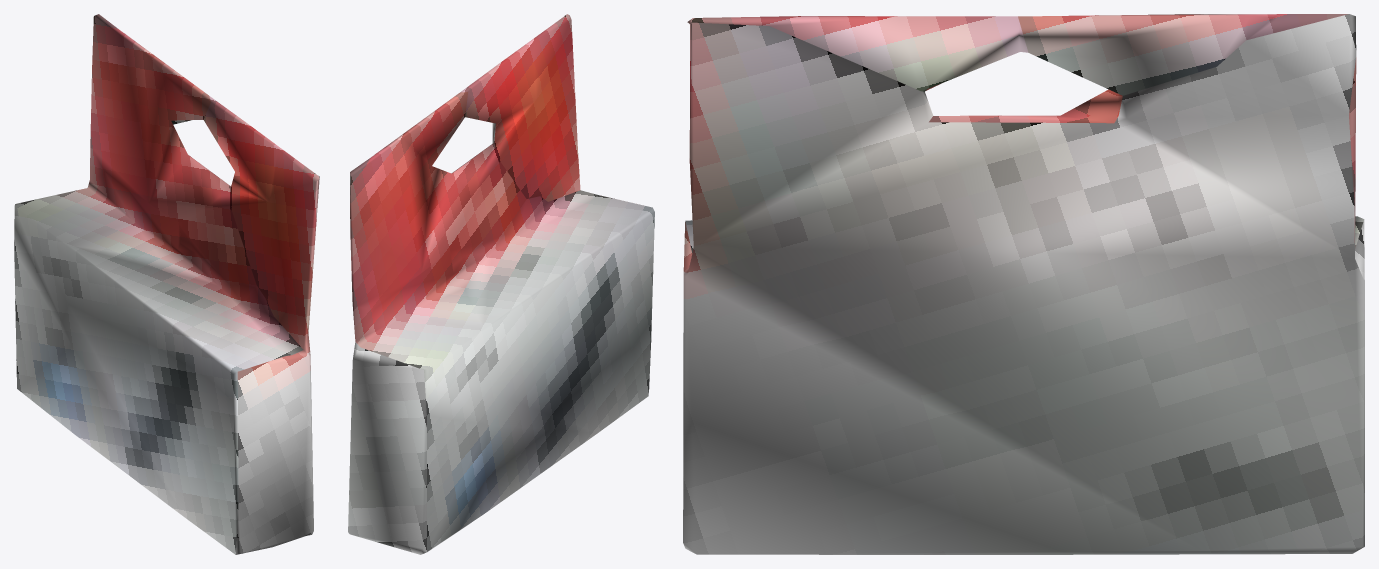
The model's file is Canon_Pixma_Ink_Cartridge_Cyan_251-low.glb.
3 views of the same model, side by side, from view 1: azimuth 30°, elevation 25°; view 2: azimuth 150°, elevation 25°; view 3: azimuth 270°, elevation 25° (orthographic). The views are drawn at different scales.
Parts seen in each view (by area): view 1: Canon_Pixma_Ink_Cartridge_Cyan_251; view 2: Canon_Pixma_Ink_Cartridge_Cyan_251; view 3: Canon_Pixma_Ink_Cartridge_Cyan_251.
Part boxes in pixels (left/top/right/bottom): Canon_Pixma_Ink_Cartridge_Cyan_251: left=14, top=14, right=319, bottom=554; Canon_Pixma_Ink_Cartridge_Cyan_251: left=348, top=14, right=654, bottom=554; Canon_Pixma_Ink_Cartridge_Cyan_251: left=683, top=14, right=1364, bottom=554.
Size of the model in its own units: 0.0247 by 0.0973 by 0.1098.
Materials: 1 (1 with a texture image).
